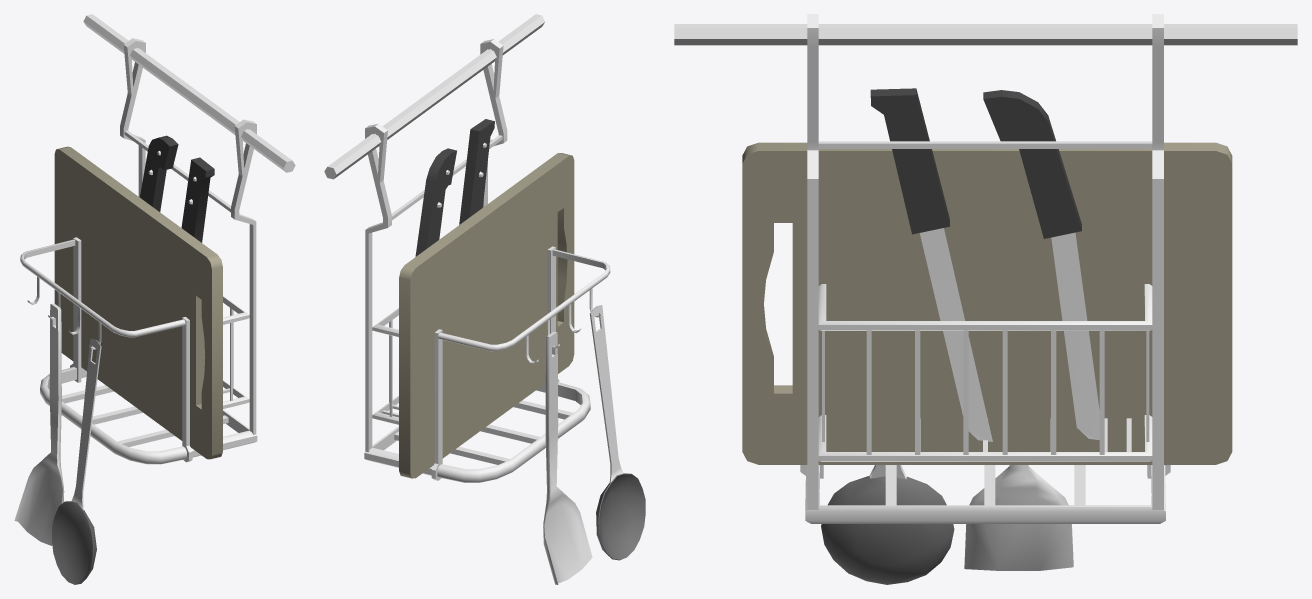
The picture shows the model from 3 angles, left to right: view 1: azimuth 30°, elevation 25°; view 2: azimuth 150°, elevation 25°; view 3: azimuth 270°, elevation 25°; orthographic projection. The views are drawn at different scales.
Parts seen in each view (by area): view 1: KG21001; view 2: KG21001; view 3: KG21001.
Boxes of the visible parts, x1,y1,x2,y2 form: KG21001: (14,14,295,584); KG21001: (324,14,645,584); KG21001: (674,14,1297,584).
Bounding box in the file's own units: 20.44 × 43.4 × 52.8.
